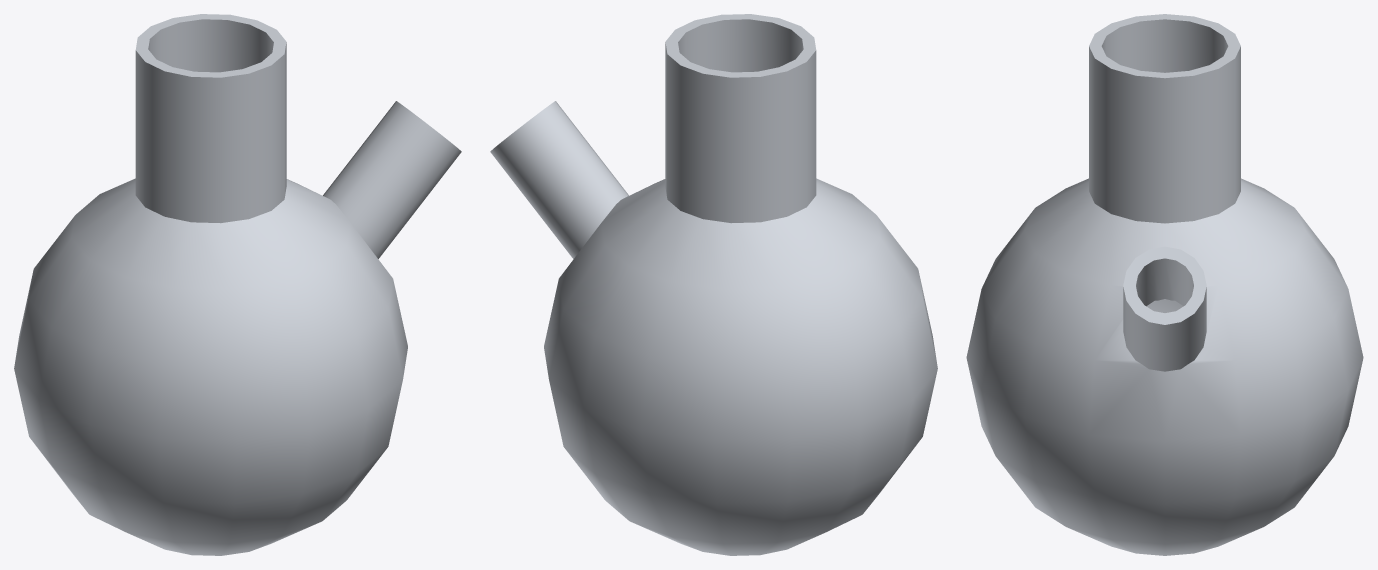
The model's file is bottle_glassware_schlenk_flask_medium_.fbx.
3 views of the same model, side by side, from view 1: azimuth 30°, elevation 25°; view 2: azimuth 150°, elevation 25°; view 3: azimuth 270°, elevation 25° (orthographic).
Parts seen in each view (by area): view 1: bottle_glassware_schlenk_flask_medium; view 2: bottle_glassware_schlenk_flask_medium; view 3: bottle_glassware_schlenk_flask_medium.
Part boxes in pixels (x1=…): bottle_glassware_schlenk_flask_medium: x1=14, y1=14, x2=461, y2=555; bottle_glassware_schlenk_flask_medium: x1=490, y1=14, x2=937, y2=555; bottle_glassware_schlenk_flask_medium: x1=966, y1=14, x2=1363, y2=555.
Bounding box in the file's own units: 1519 × 1719 × 1258.
Materials: 1 (1 with a texture image).
